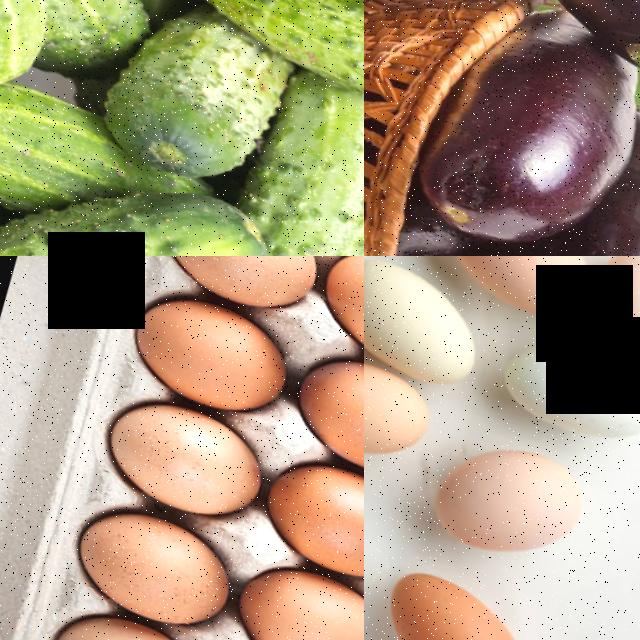cucumber: (77, 0, 292, 201), (220, 54, 364, 256), (0, 35, 124, 237), (231, 0, 364, 135)
egg_: (410, 416, 594, 579), (113, 275, 302, 429), (88, 380, 275, 534), (55, 490, 240, 640), (481, 307, 640, 462), (243, 439, 364, 596), (364, 256, 497, 395), (364, 554, 540, 640), (214, 546, 364, 640), (276, 336, 364, 491), (416, 256, 606, 327), (146, 256, 333, 325), (364, 330, 436, 477), (30, 594, 216, 640), (304, 256, 364, 385), (573, 256, 640, 371)
eggplant: (393, 0, 640, 256), (364, 0, 640, 88), (545, 92, 640, 256)
